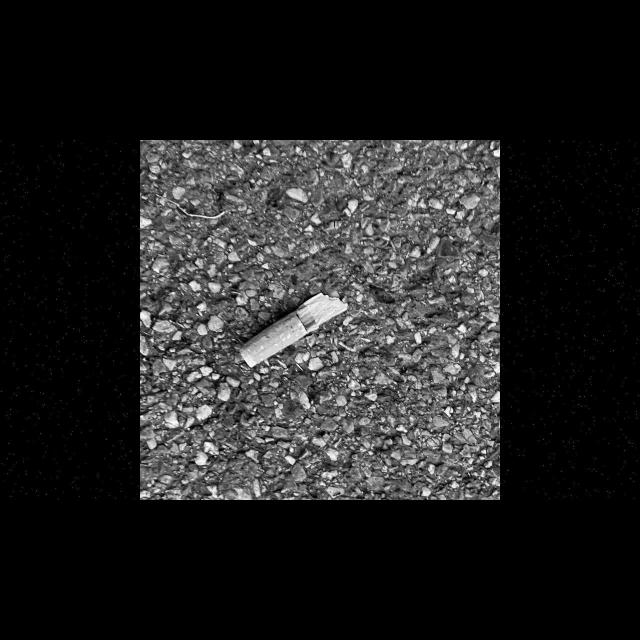cigarette: (238, 291, 349, 368)
